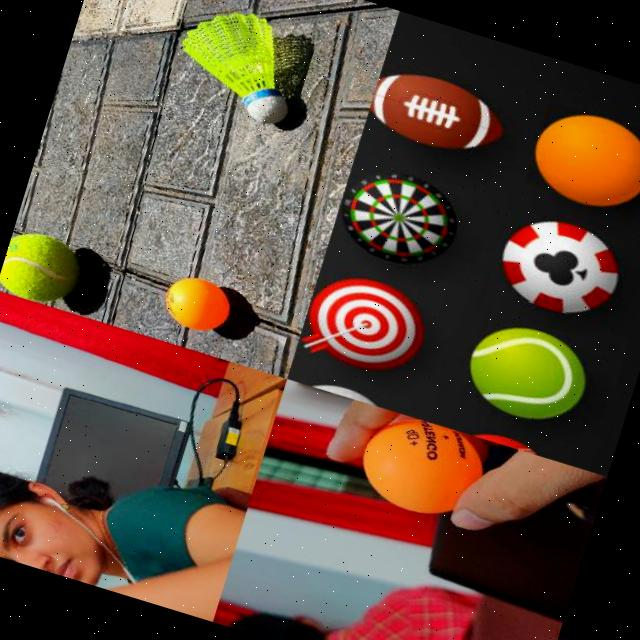ping-pong-ball: (352, 406, 499, 528), (525, 100, 640, 215), (160, 269, 234, 334)
